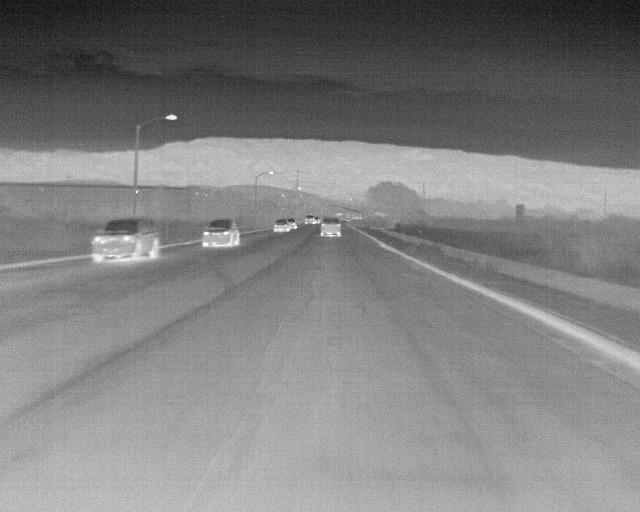car: (88, 216, 162, 263), (198, 218, 242, 250), (318, 214, 341, 237), (271, 220, 288, 234), (285, 217, 298, 232), (304, 211, 318, 224)
